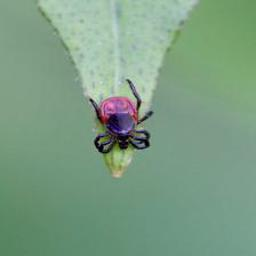Ixodes scapularis: (89, 78, 152, 153)
